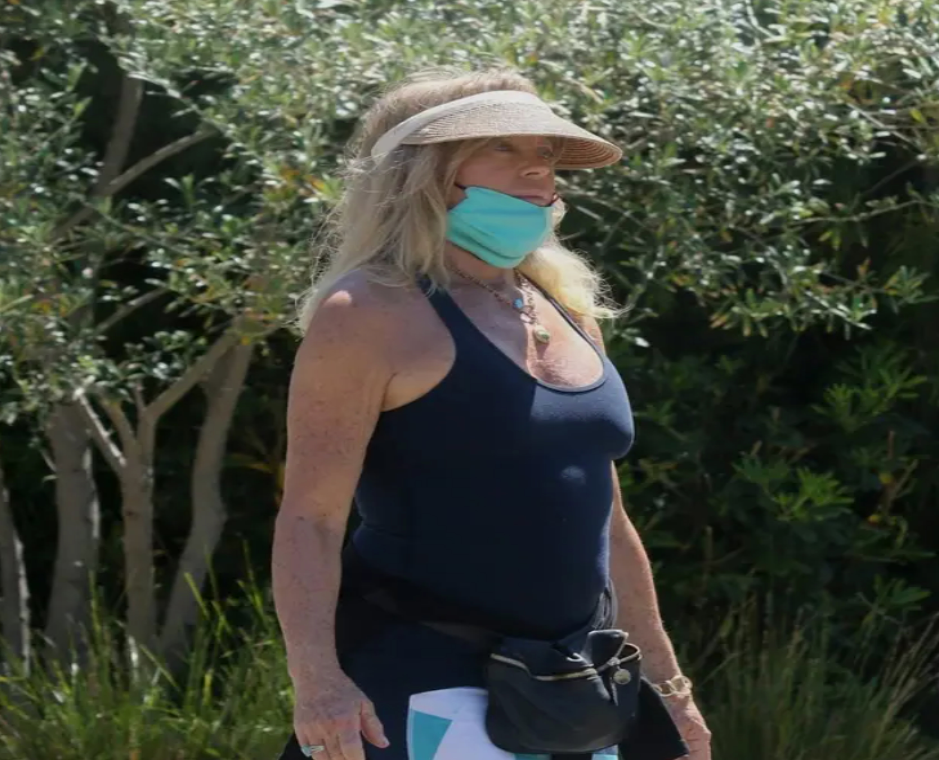mask_weared_incorrect: (356, 72, 609, 275)
